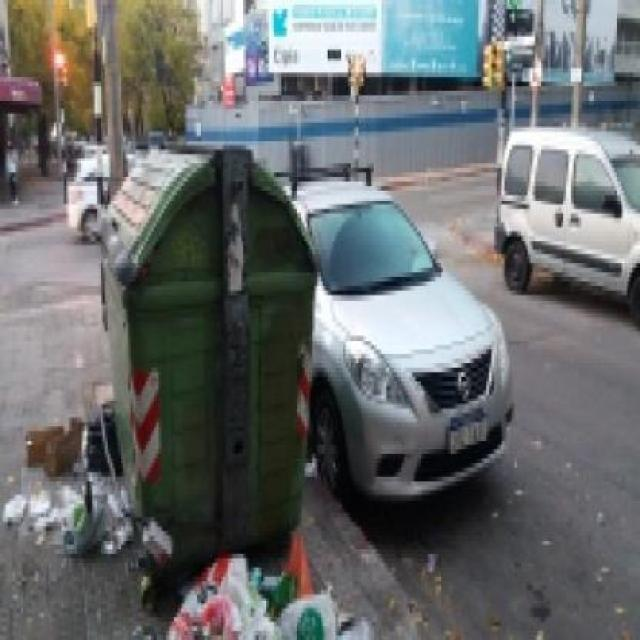garbage: (15, 381, 132, 576), (174, 554, 361, 636)
